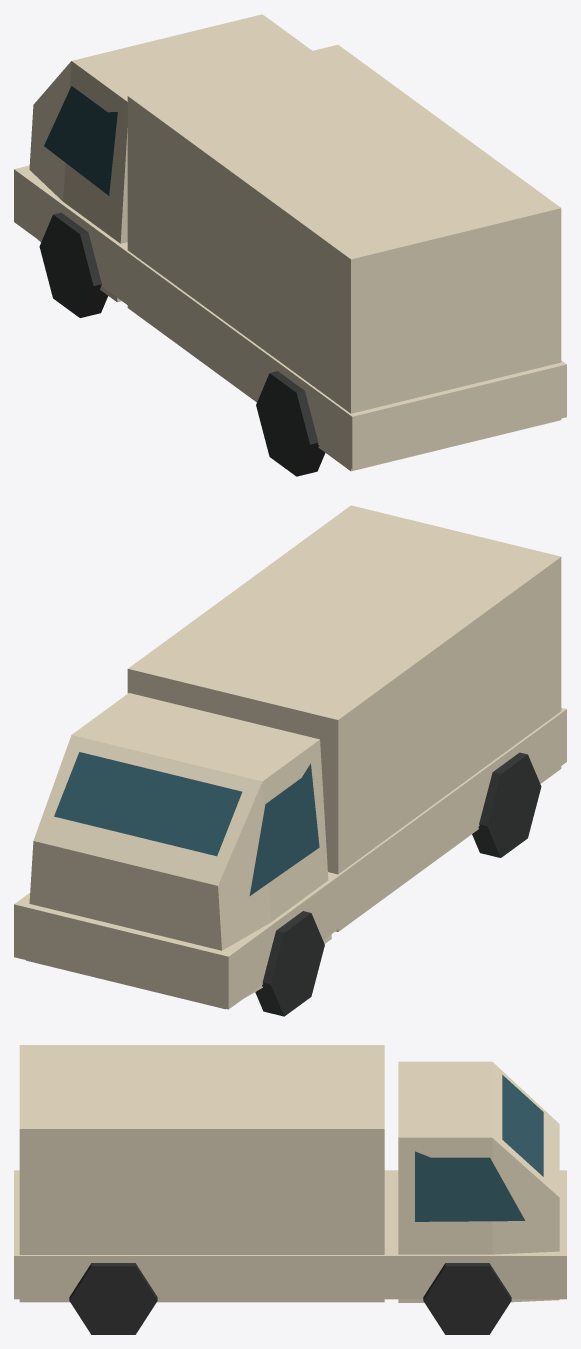
The model's file is van_far.glb.
3 views of the same model, one above another, from view 1: azimuth 30°, elevation 25°; view 2: azimuth 150°, elevation 25°; view 3: azimuth 270°, elevation 25° (orthographic). The views are drawn at different scales.
Visible parts, largest first — view 1: VanModel traffic_cream, VanModel traffic_rubber, VanModel traffic_glass; view 2: VanModel traffic_cream, VanModel traffic_glass, VanModel traffic_rubber; view 3: VanModel traffic_cream, VanModel traffic_rubber, VanModel traffic_glass.
Boxes of the visible parts, x1,y1,x2,y2 form: VanModel traffic_cream: [14, 14, 566, 471]; VanModel traffic_rubber: [39, 212, 325, 476]; VanModel traffic_glass: [44, 86, 117, 195]; VanModel traffic_cream: [14, 505, 566, 1009]; VanModel traffic_glass: [54, 752, 319, 895]; VanModel traffic_rubber: [255, 752, 541, 1016]; VanModel traffic_cream: [14, 1045, 566, 1302]; VanModel traffic_rubber: [69, 1263, 511, 1334]; VanModel traffic_glass: [415, 1075, 543, 1221].
Size of the model in its own units: 2.24 by 2.28 by 5.67.
